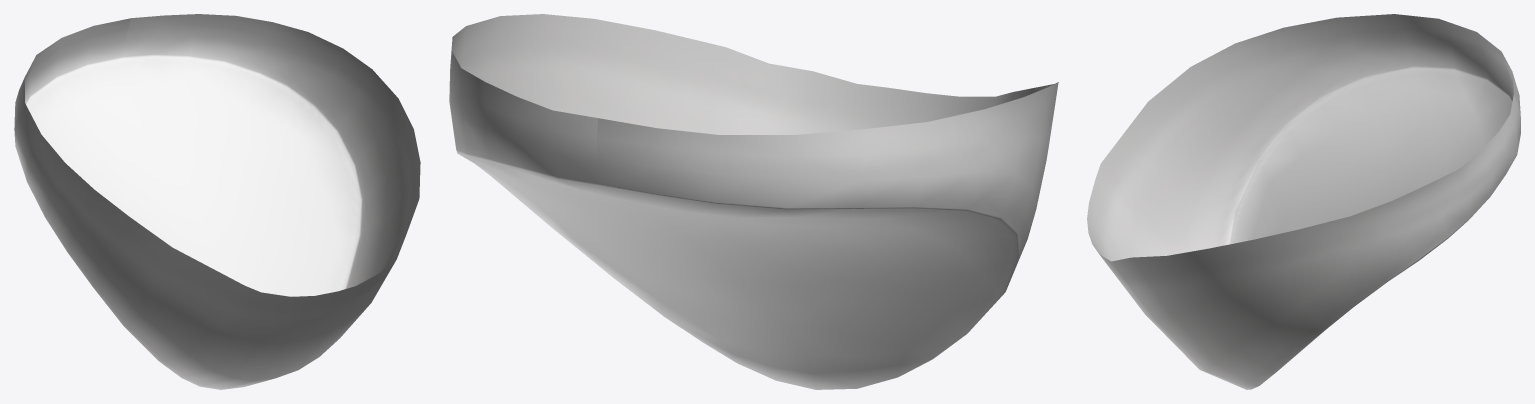
File: left_trigger.obj
3 views of the same model, side by side, from view 1: azimuth 30°, elevation 25°; view 2: azimuth 150°, elevation 25°; view 3: azimuth 270°, elevation 25° (orthographic). The views are drawn at different scales.
Parts seen in each view (by area): view 1: left_trigger; view 2: left_trigger; view 3: left_trigger.
Boxes of the visible parts, x1,y1,x2,y2 form: left_trigger: [14, 14, 420, 389]; left_trigger: [449, 14, 1058, 389]; left_trigger: [1087, 14, 1520, 389].
Bounding box in the file's own units: 0.0286 × 0.0217 × 0.0293.
1 material, 1 textured.
